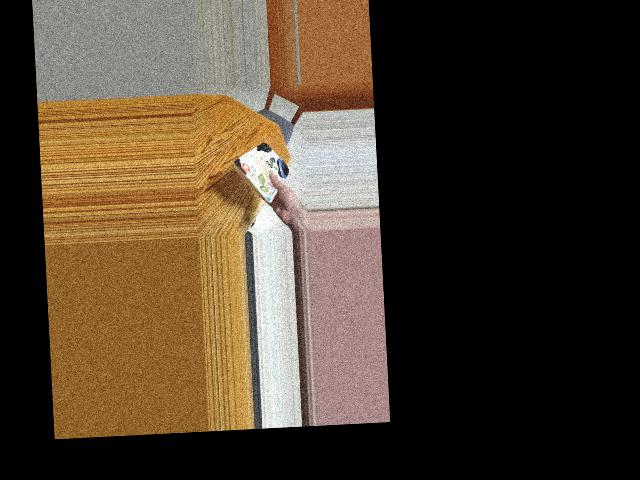cheese: (236, 141, 284, 196)
